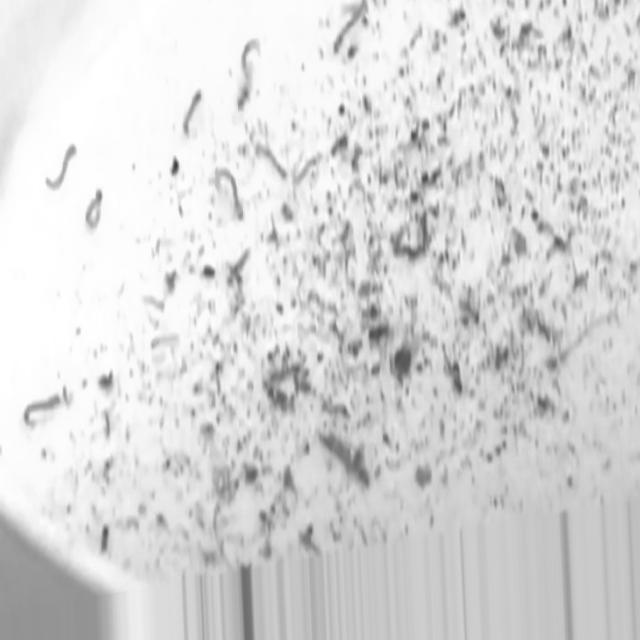larvas: (42, 133, 81, 204), (333, 0, 371, 57), (21, 388, 62, 428), (238, 36, 260, 108), (212, 173, 242, 221), (225, 247, 251, 293), (149, 324, 181, 357), (141, 283, 167, 318), (292, 154, 317, 188), (261, 147, 285, 181), (184, 87, 198, 136), (324, 398, 349, 422), (88, 184, 101, 229), (177, 187, 197, 215), (210, 114, 218, 174), (339, 0, 358, 17), (148, 312, 160, 334)
